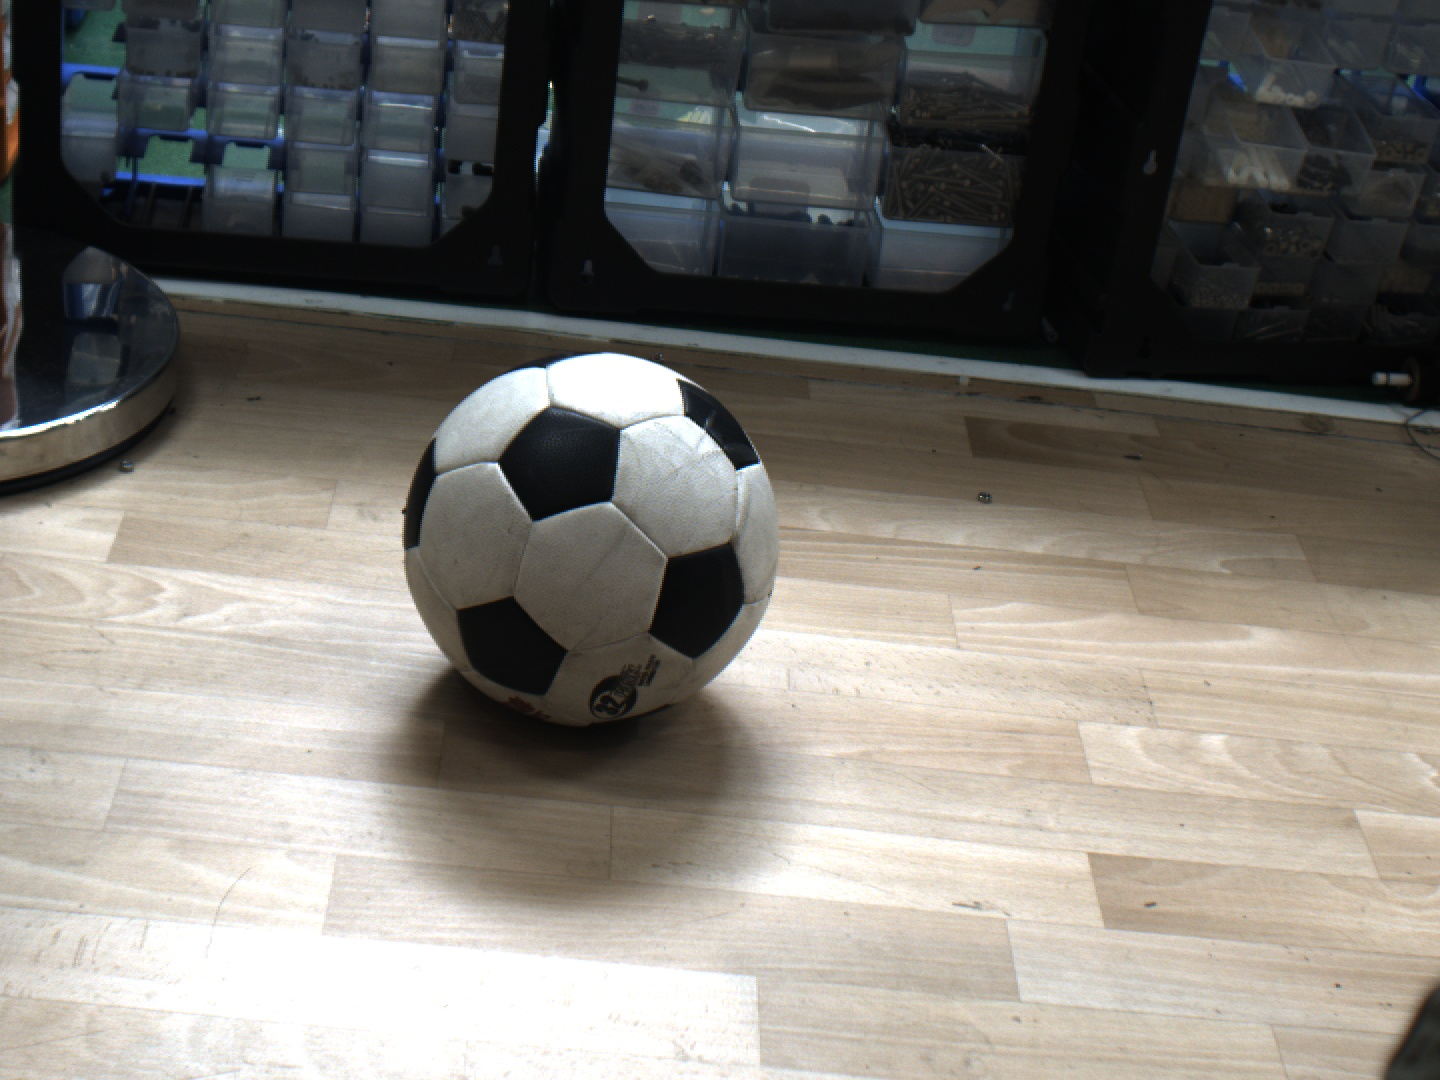ball: (399, 347, 778, 724)
